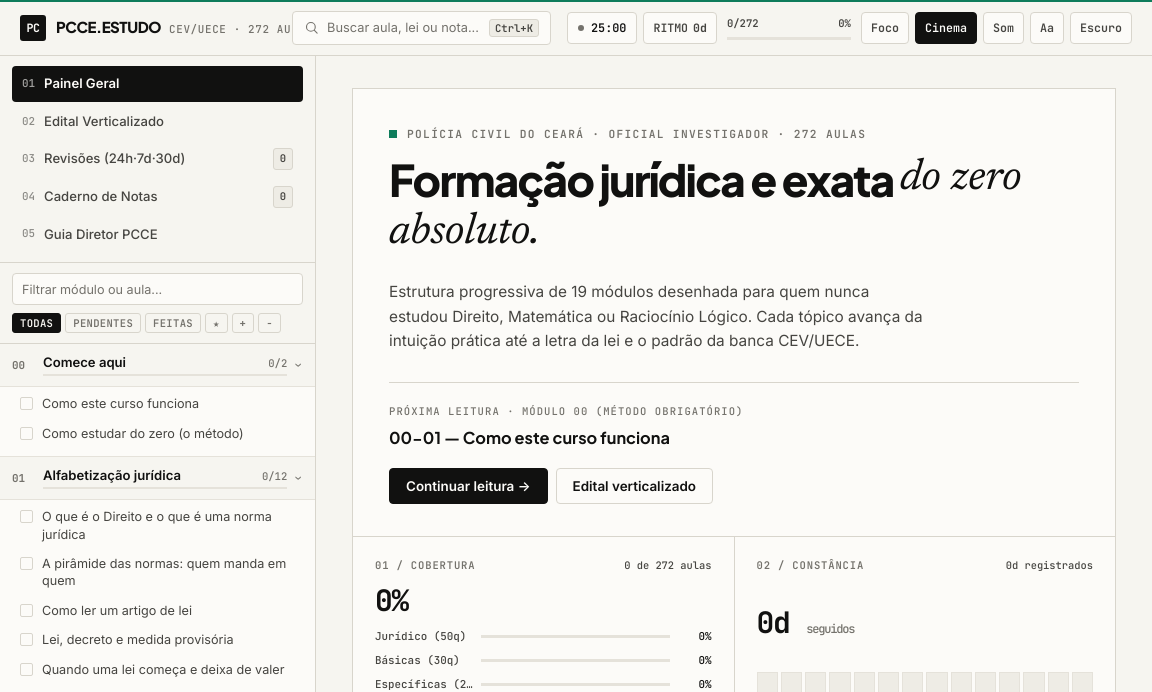
Test: App › liga o modo foco pela tecla F e alterna o tema
Type keys "f"
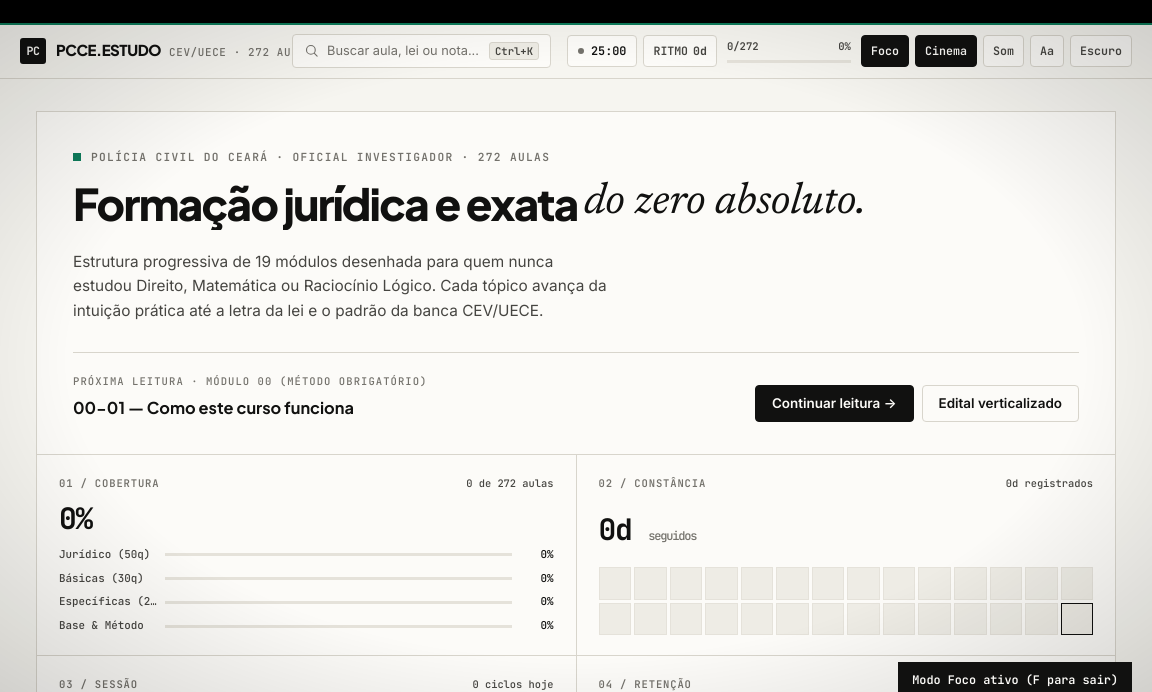
Click the button with aria-label "Alternar para tema escuro": (1101, 50) [1070, 34, 1132, 66]
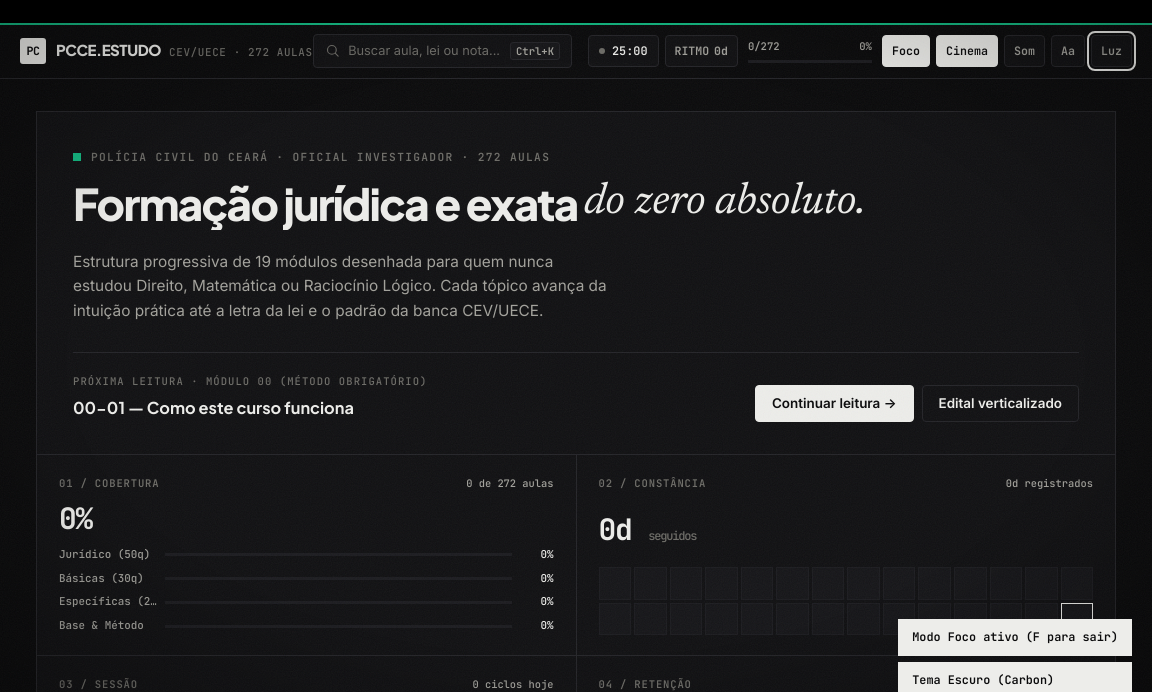
expect the button with aria-label "Alternar para tema claro" reads "Luz": met, box [1091, 34, 1132, 66]
